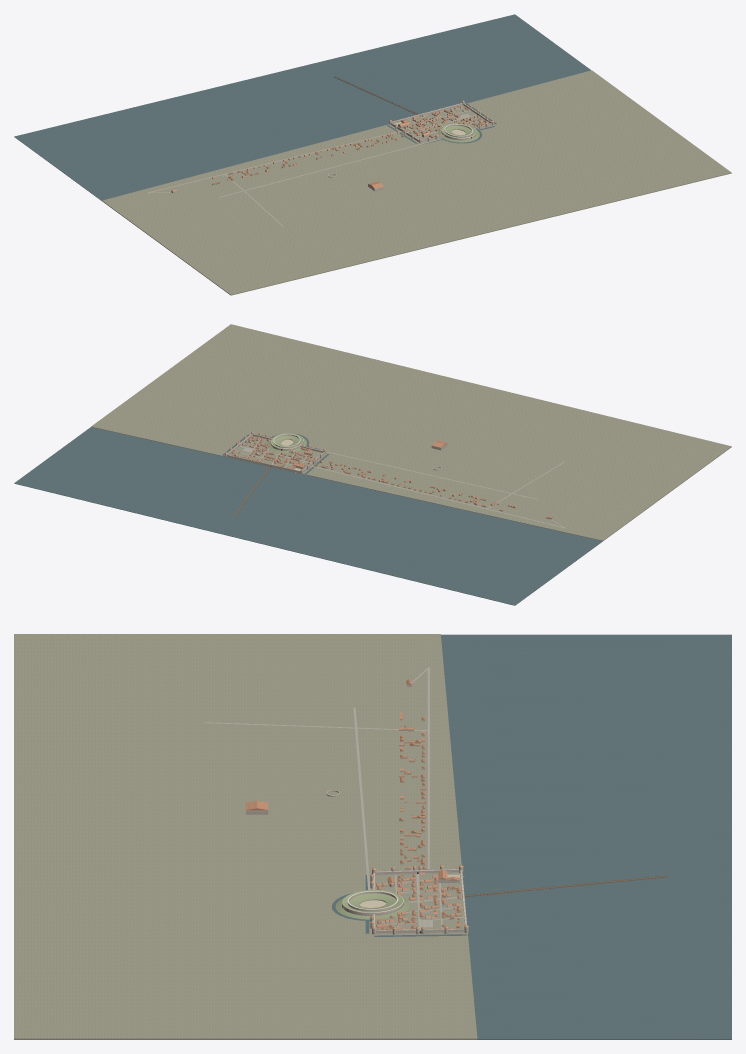
File: castrum_385.glb
3 renders of one model, top to bottom at view 1: azimuth 30°, elevation 25°; view 2: azimuth 150°, elevation 25°; view 3: azimuth 270°, elevation 25°, orthographic. The views are drawn at different scales.
Parts seen in each view (by area): view 1: castrum_385; view 2: castrum_385; view 3: castrum_385.
Part boxes in pixels (box(x1,y1,x2,y2)): castrum_385: box(14, 14, 731, 295); castrum_385: box(14, 324, 731, 605); castrum_385: box(14, 634, 731, 1039).
Bounding box in the file's own units: 2400 × 27 × 1800.
13 materials, 11 textured.
